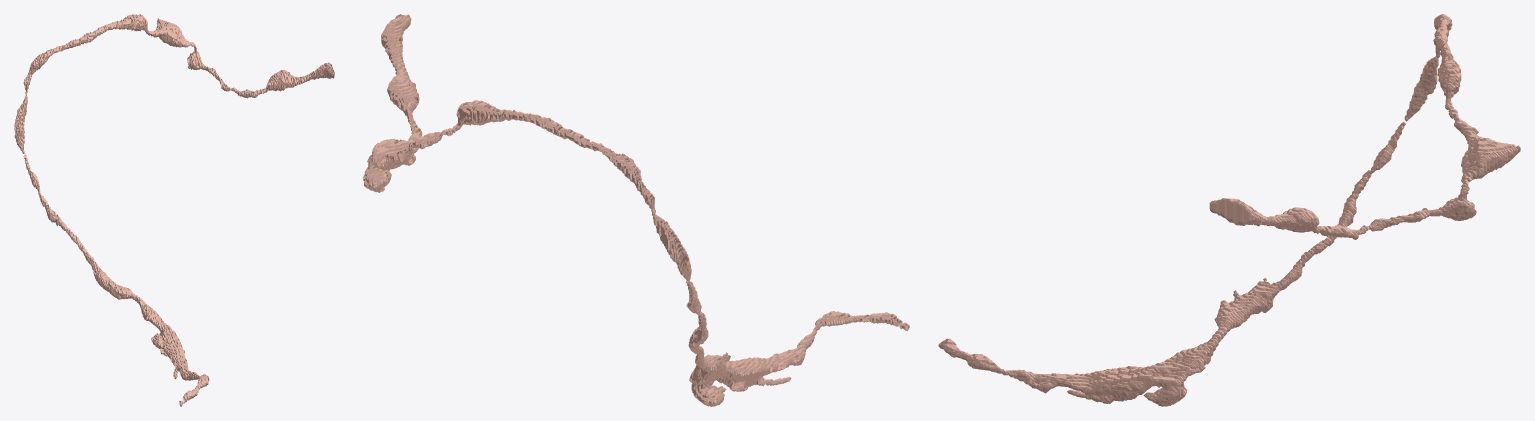
File: SVV_SMBDL.gltf
The picture shows the model from 3 angles, left to right: view 1: azimuth 30°, elevation 25°; view 2: azimuth 150°, elevation 25°; view 3: azimuth 270°, elevation 25°; orthographic projection. The views are drawn at different scales.
Visible parts, largest first — view 1: SMBDL; view 2: SMBDL; view 3: SMBDL.
Part boxes in pixels (x1,y1,x2,y2): SMBDL: (14,14,334,406); SMBDL: (363,14,909,406); SMBDL: (938,14,1520,406).
Bounding box in the file's own units: 136441 × 128639 × 173582.
